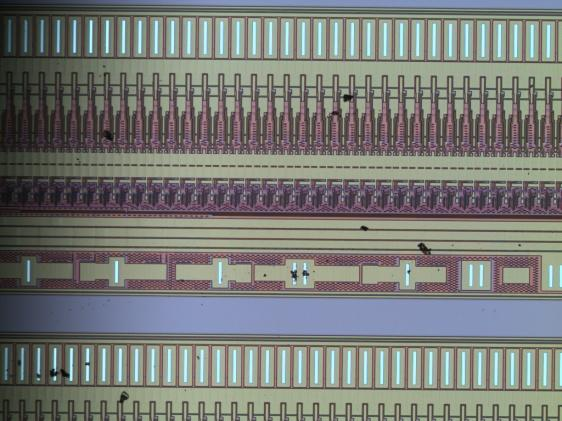PO CONTAMINATION: (99, 61, 528, 397)
